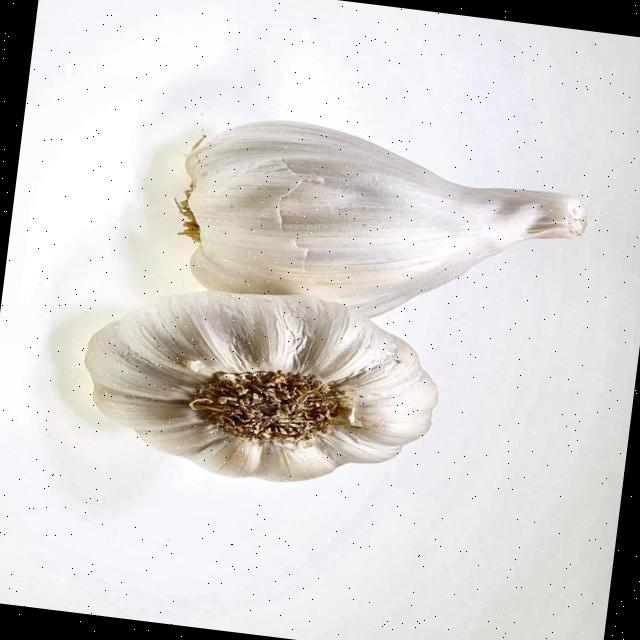garlic: (177, 121, 585, 316), (85, 290, 437, 481)
